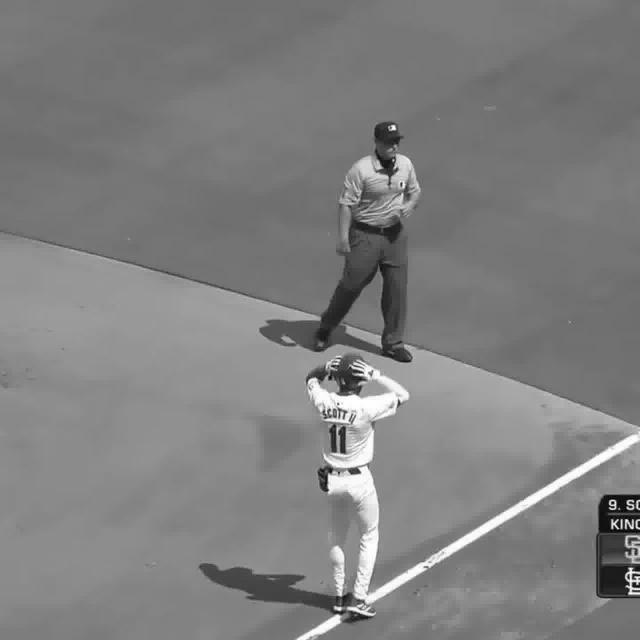shoe: (344, 592, 380, 620), (388, 344, 418, 363), (333, 589, 352, 615), (319, 323, 337, 350)
